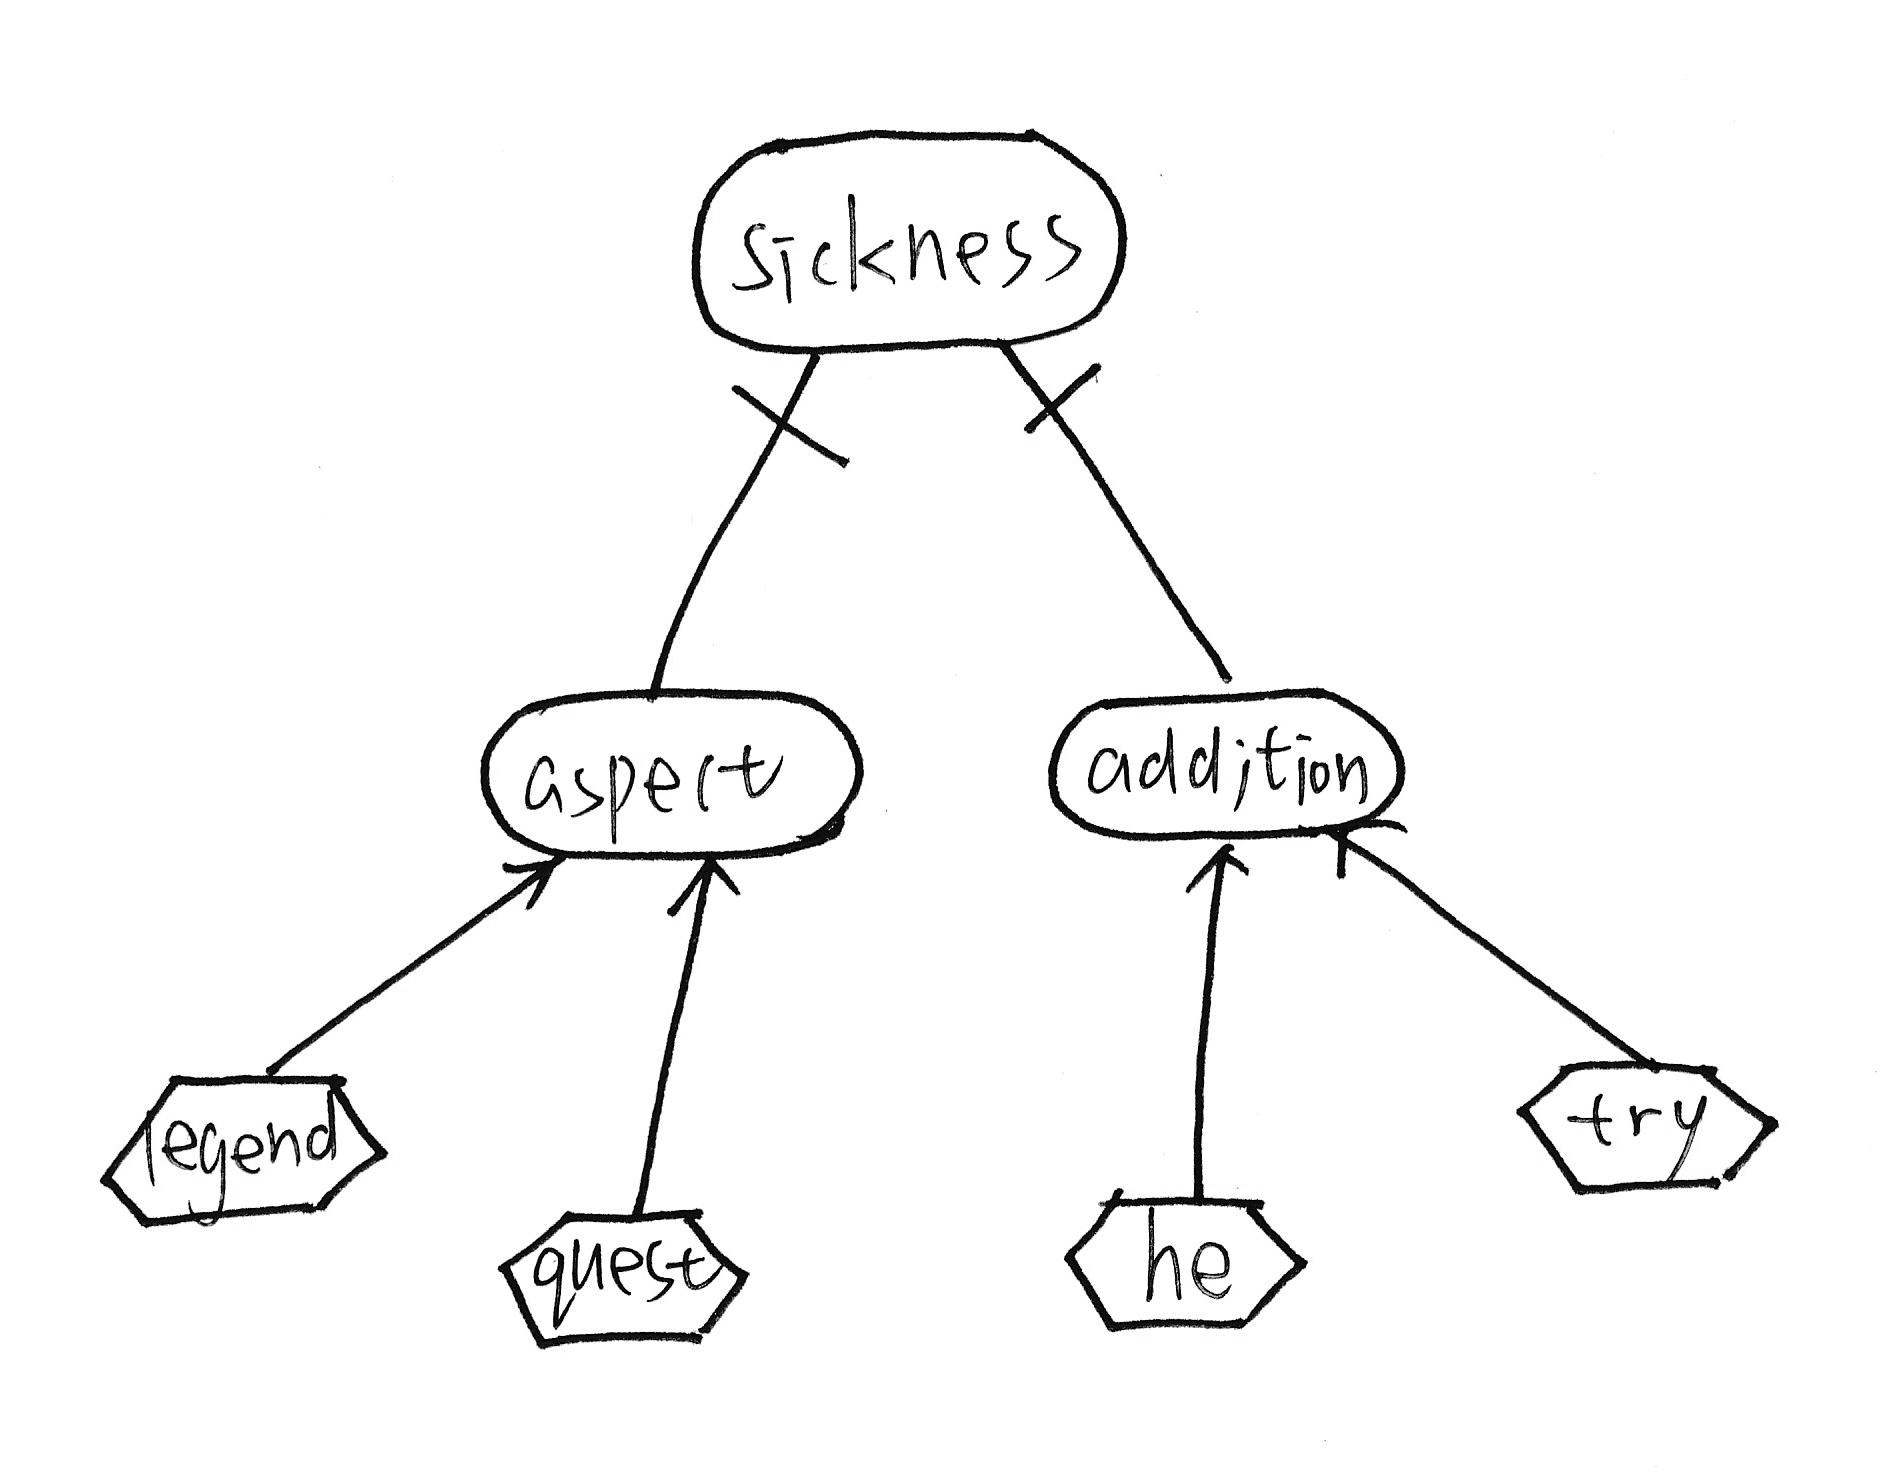and: (719, 358, 867, 483), (1005, 356, 1119, 451)
arrow: (659, 851, 769, 926), (1321, 812, 1419, 884), (489, 847, 573, 919), (1177, 833, 1259, 906)
goal: (684, 112, 1138, 364), (469, 676, 875, 871), (1038, 676, 1422, 844)
task: (89, 1058, 404, 1237), (1508, 1046, 1794, 1203), (1054, 1175, 1320, 1339), (489, 1201, 758, 1360)
